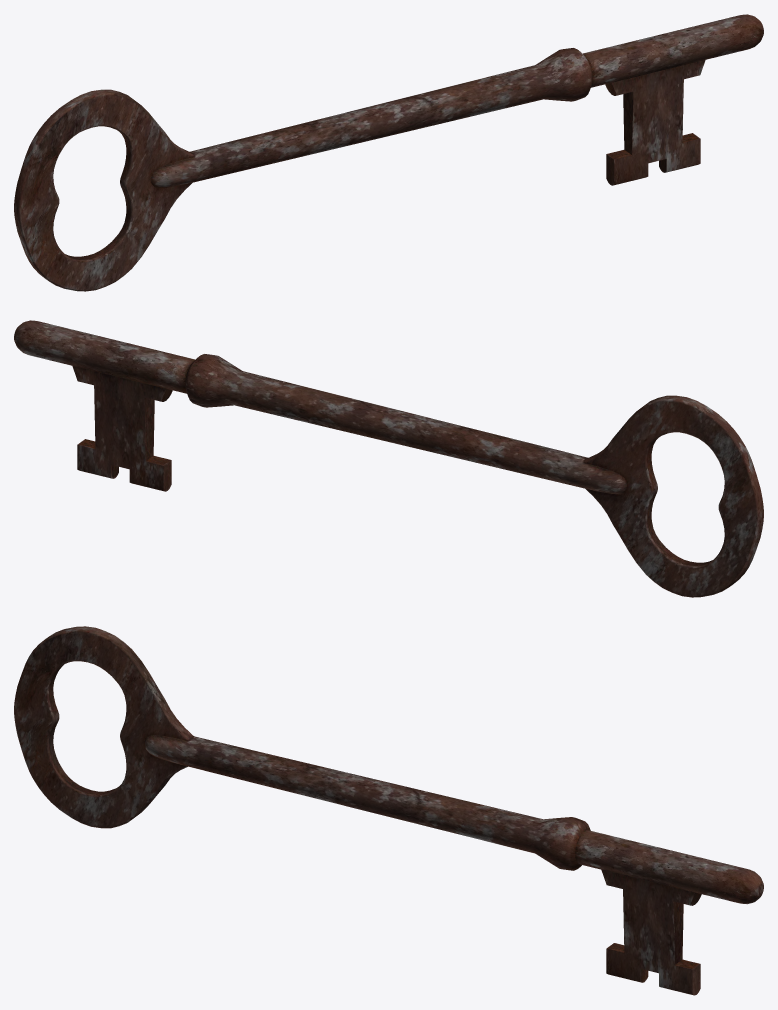
File: obj-24-key.glb
The picture shows the model from 3 angles, top to bottom: view 1: azimuth 30°, elevation 25°; view 2: azimuth 150°, elevation 25°; view 3: azimuth 330°, elevation 25°; orthographic projection.
Parts seen in each view (by area): view 1: key1_low; view 2: key1_low; view 3: key1_low.
Boxes of the visible parts, <box> form: key1_low: <box>14,14,763,291</box>; key1_low: <box>14,320,763,597</box>; key1_low: <box>14,626,763,995</box>.
Bounding box in the file's own units: 0.1927 × 0.054 × 0.0121.
1 material, 1 textured.
